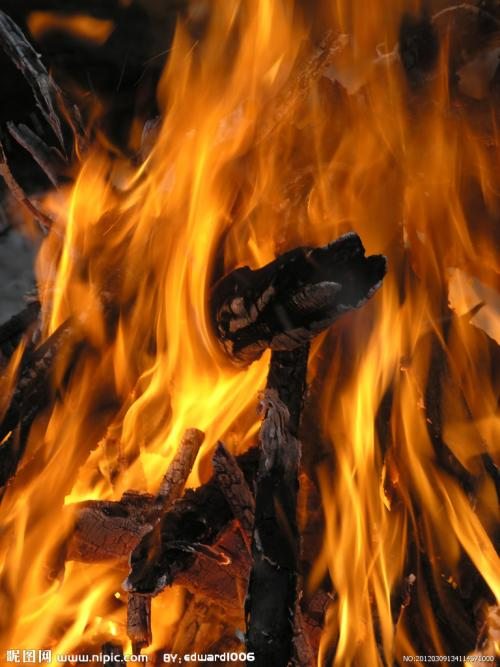fire: (150, 32, 472, 223), (119, 231, 211, 416), (332, 431, 389, 667)
